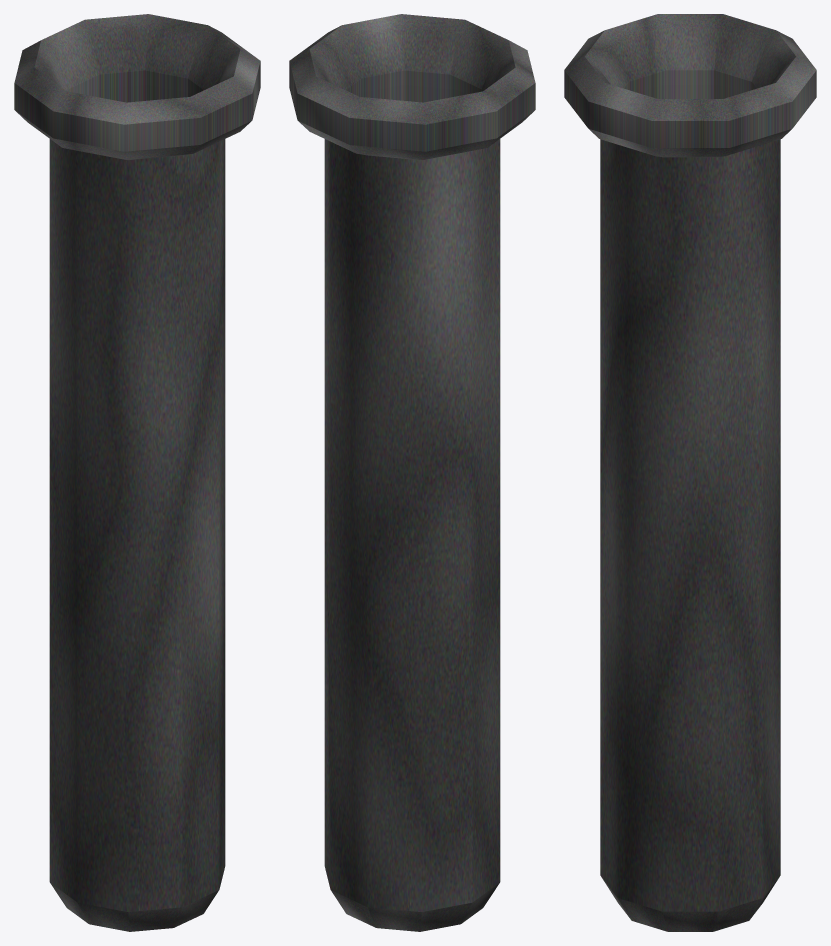
Rendered from furniture15.fbx.
3 renders of one model, left to right at view 1: azimuth 30°, elevation 25°; view 2: azimuth 150°, elevation 25°; view 3: azimuth 270°, elevation 25°, orthographic.
Parts seen in each view (by area): view 1: Mesh; view 2: Mesh; view 3: Mesh.
Boxes of the visible parts, left/top/right/bottom form: Mesh: left=14, top=14, right=260, bottom=931; Mesh: left=289, top=14, right=535, bottom=931; Mesh: left=564, top=14, right=816, bottom=931.
Size of the model in its own units: 7.56 by 29.97 by 7.95.
